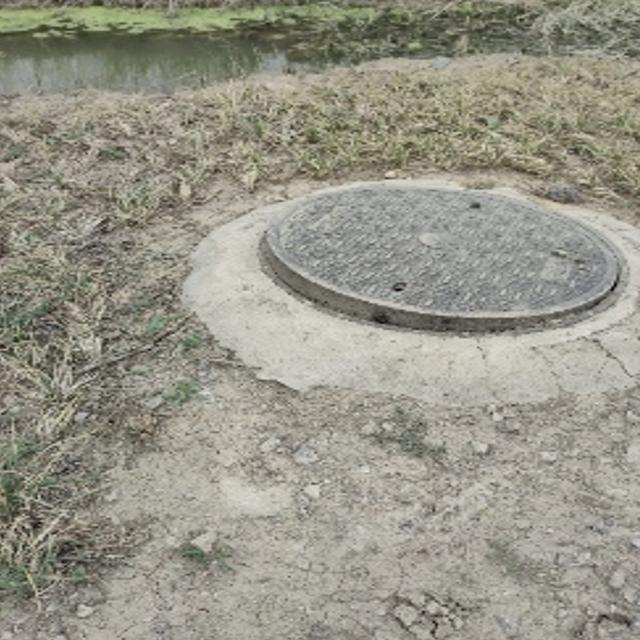good: (261, 187, 634, 334)
